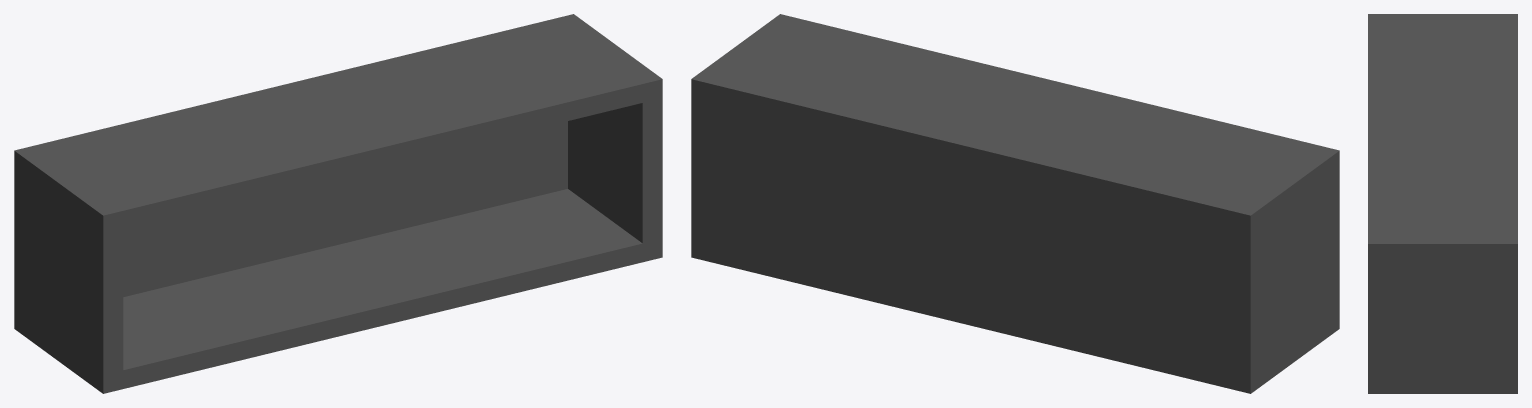
The model's file is Itr_Wardrobe4_Body1_04.FBX.
3 views of the same model, side by side, from view 1: azimuth 30°, elevation 25°; view 2: azimuth 150°, elevation 25°; view 3: azimuth 270°, elevation 25° (orthographic). The views are drawn at different scales.
Parts seen in each view (by area): view 1: Itr_Wardrobe4_Body1_04; view 2: Itr_Wardrobe4_Body1_04; view 3: Itr_Wardrobe4_Body1_04.
Part boxes in pixels (bbox=[...]): Itr_Wardrobe4_Body1_04: bbox=[14, 14, 662, 393]; Itr_Wardrobe4_Body1_04: bbox=[691, 14, 1339, 393]; Itr_Wardrobe4_Body1_04: bbox=[1368, 14, 1517, 393].
Bounding box in the file's own units: 59.06 × 17.98 × 16.27.
